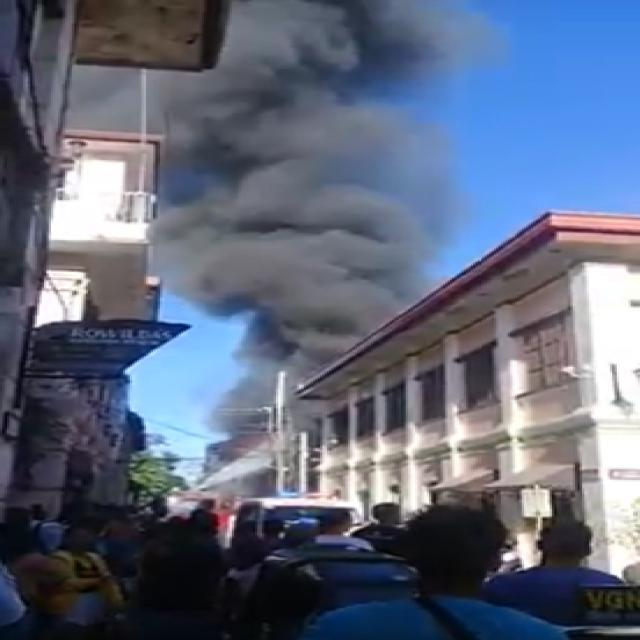Smoke: (139, 0, 455, 441)
